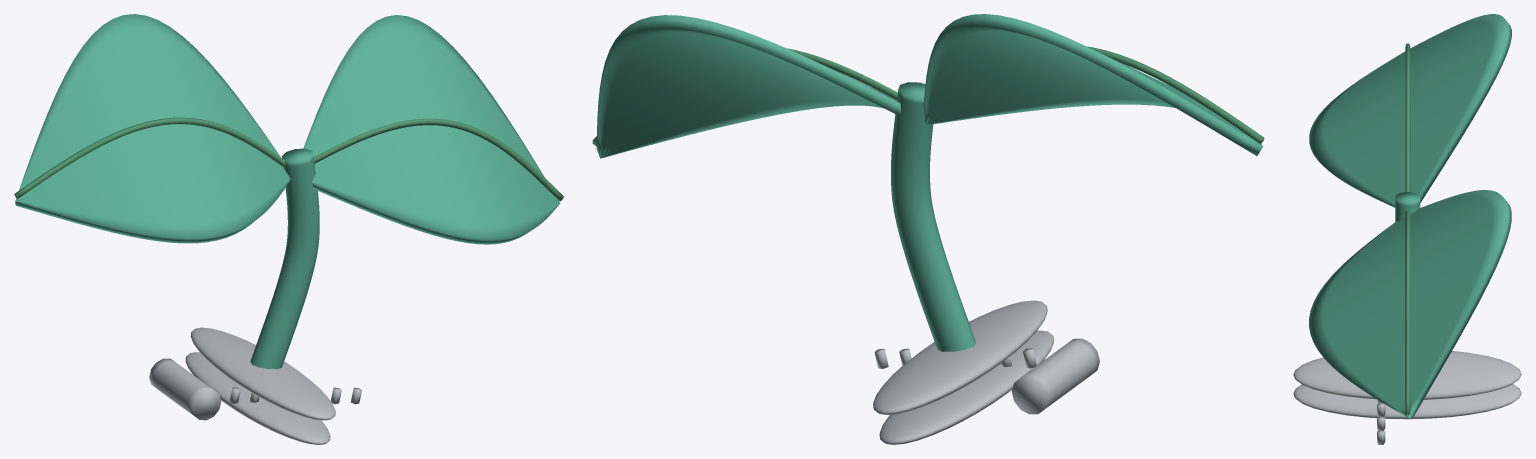
The model's file is Feminine-box-braids-pashmina260-sprout.glb.
3 views of the same model, side by side, from view 1: azimuth 30°, elevation 25°; view 2: azimuth 150°, elevation 25°; view 3: azimuth 270°, elevation 25° (orthographic). The views are drawn at different scales.
Visible parts, largest first — view 1: 226 extra / Accessory / mint226, 226 extra / Sprout / clip silver235, 226 extra / Sprout / leaf vein235; view 2: 226 extra / Accessory / mint226, 226 extra / Sprout / clip silver235, 226 extra / Sprout / leaf vein235; view 3: 226 extra / Accessory / mint226, 226 extra / Sprout / clip silver235, 226 extra / Sprout / leaf vein235.
Boxes of the visible parts, x1,y1,x2,y2 form: 226 extra / Accessory / mint226: (15,14,560,369); 226 extra / Sprout / clip silver235: (149,327,361,444); 226 extra / Sprout / leaf vein235: (14,117,563,201); 226 extra / Accessory / mint226: (596,14,1263,351); 226 extra / Sprout / clip silver235: (873,300,1099,444); 226 extra / Sprout / leaf vein235: (592,46,1264,146); 226 extra / Accessory / mint226: (1309,14,1511,419); 226 extra / Sprout / clip silver235: (1293,351,1521,444); 226 extra / Sprout / leaf vein235: (1405,43,1410,414).
Bounding box in the file's own units: 0.2644 × 0.1741 × 0.104.
